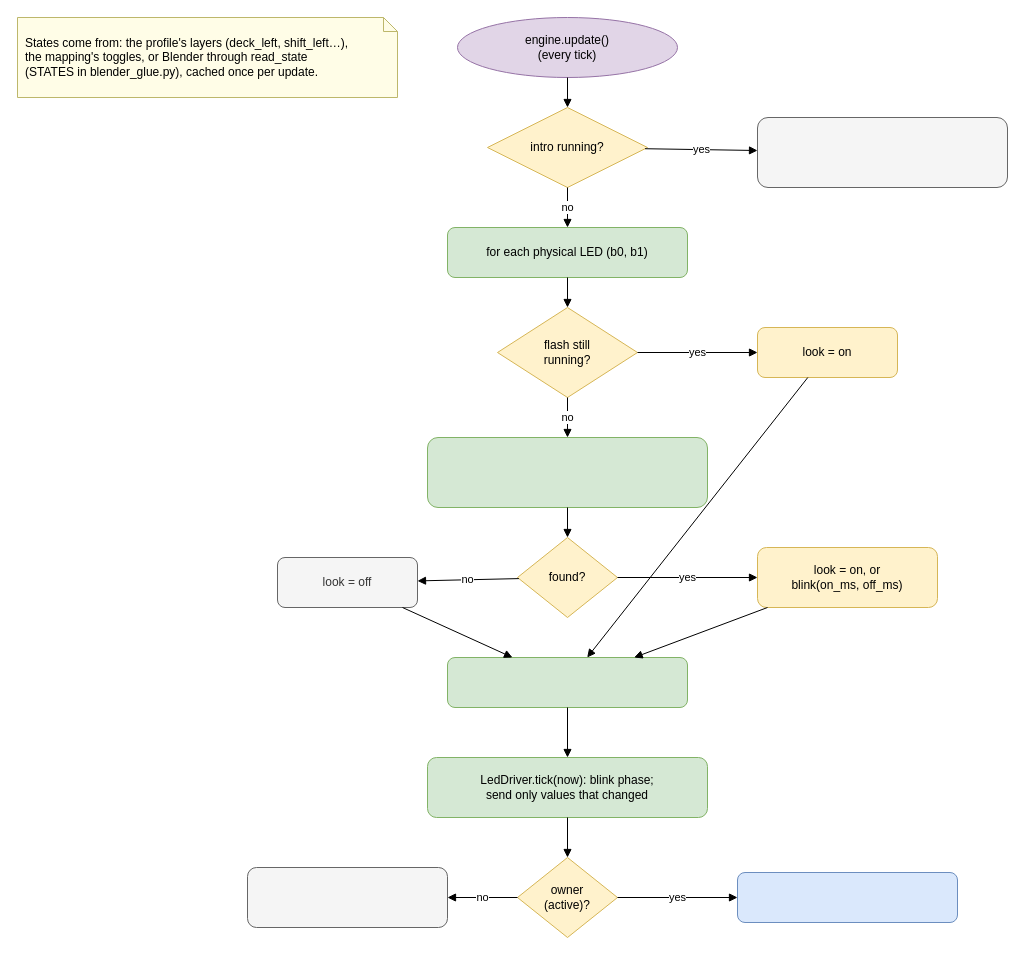
The diagram is 1025 pixels wide and 955 high, and some of its shapes have lost their labels. Each missing label, with the centre of its shape:
debug log only "out(standby, not sent)": (347,897)
first indicator for this LED whose when matches and state == equals: (567,472)
LedDriver.set(addr, look): (567,682)
MidiOut.send(b0, b1, 7F / 00): (847,897)
send the due intro frames (LEDs one by one, meters rise); at the end resend all: (882,152)
